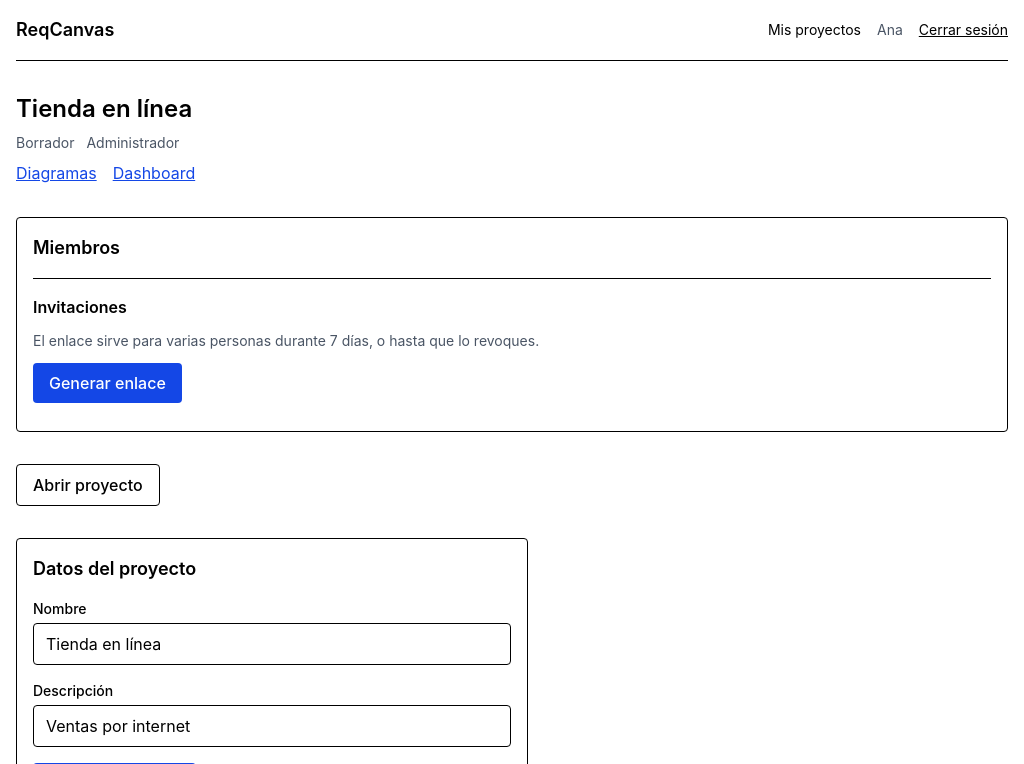
Test: página del proyecto (Administrador) › cambia el estado: Abrir, Cerrar y Reabrir según el estado actual (FR-006)
Expected: the text "Borrador" is shown, [16,133,74,153]
Expected: the button "Cerrar proyecto" is not shown
Click the button "Abrir proyecto" at (88, 485), box [16,464,160,506]
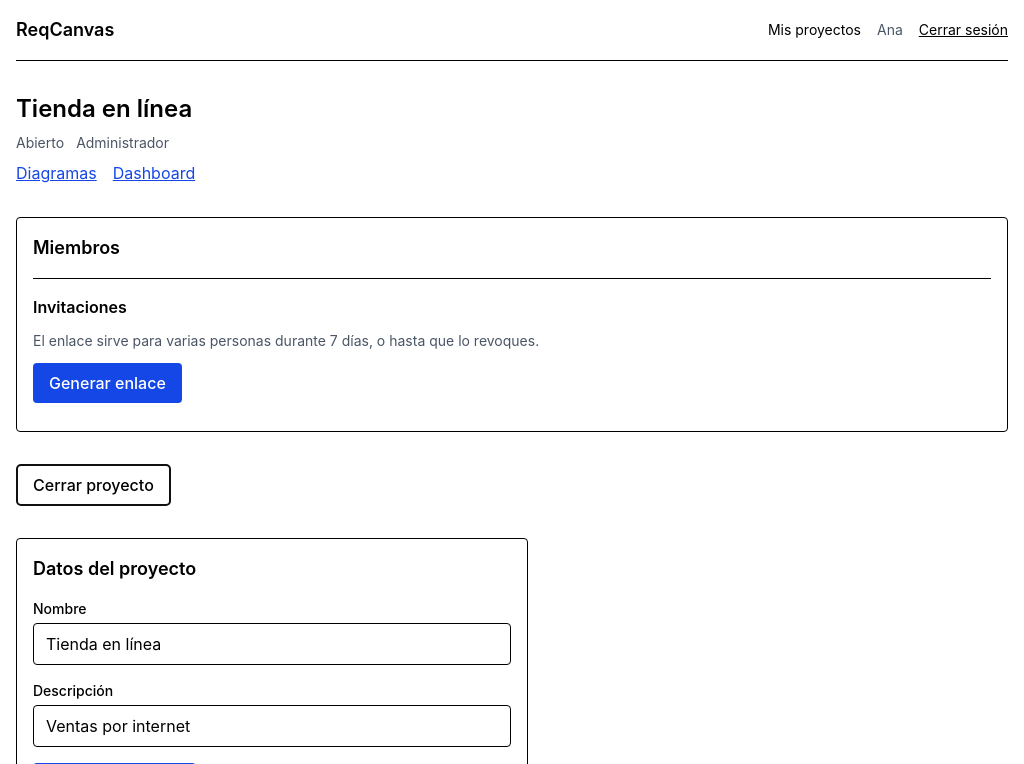
Expected: the text "Abierto" is shown, [16,133,64,153]
Expected: the button "Cerrar proyecto" is shown, [16,464,171,506]
